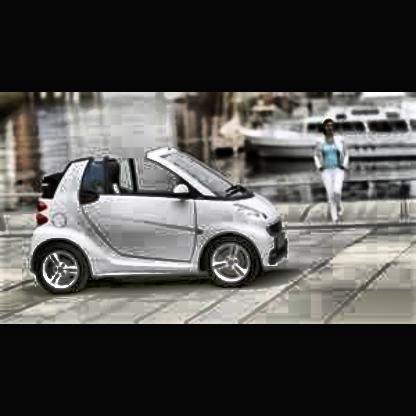smart fortwo Convertible 2012: (27, 147, 291, 299)
